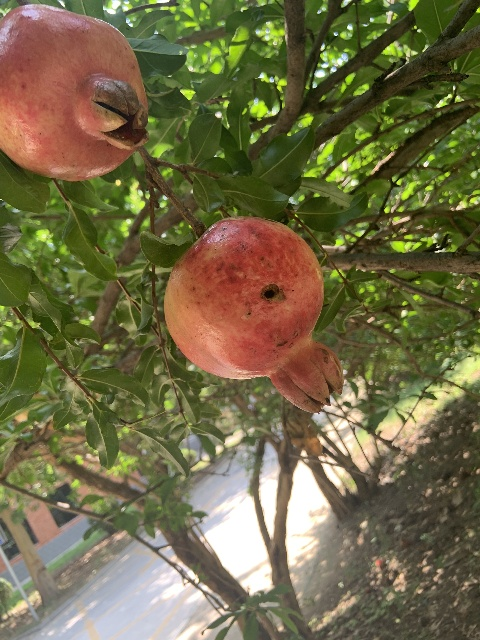ripe: (163, 216, 343, 412), (0, 3, 147, 180)
